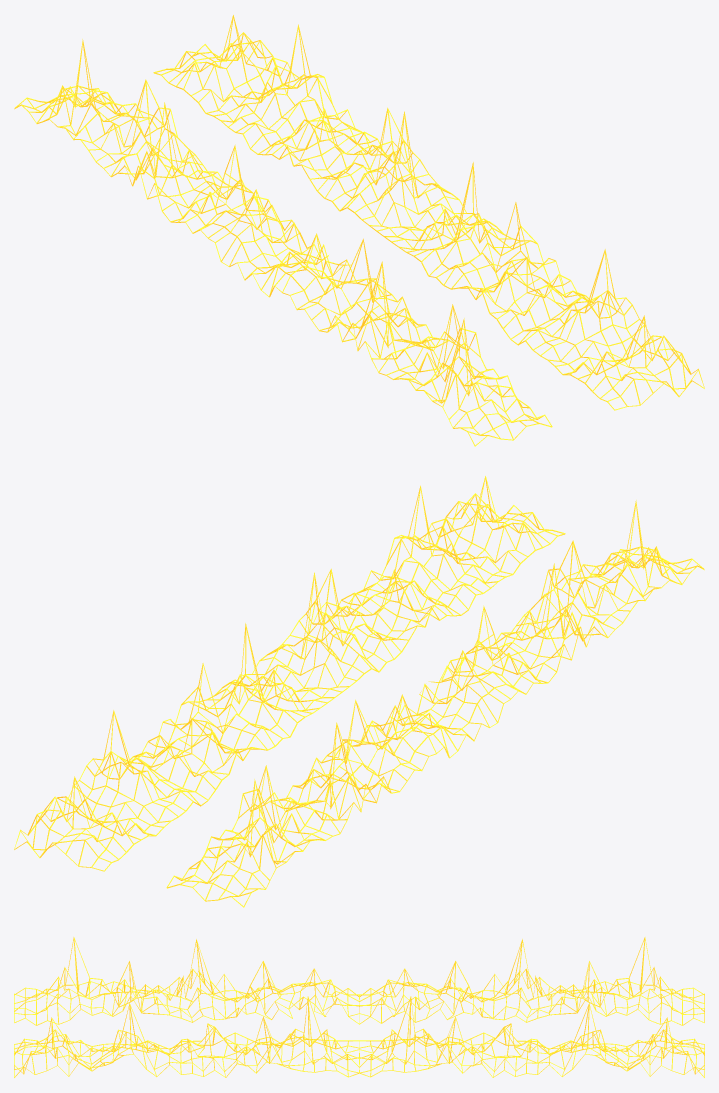
The model's file is wave side.fbx.
3 renders of one model, top to bottom at view 1: azimuth 30°, elevation 25°; view 2: azimuth 150°, elevation 25°; view 3: azimuth 270°, elevation 25°, orthographic. The views are drawn at different scales.
Visible parts, largest first — view 1: Plane3, Plane; view 2: Plane3, Plane; view 3: Plane3, Plane.
Part boxes in pixels (<box>): Plane3: <box>153,15,704,410</box>; Plane: <box>14,39,552,446</box>; Plane3: <box>14,476,565,871</box>; Plane: <box>166,500,704,907</box>; Plane3: <box>14,996,704,1077</box>; Plane: <box>14,937,704,1025</box>.
Size of the model in its own units: 7.85 by 3.2 by 27.13.
